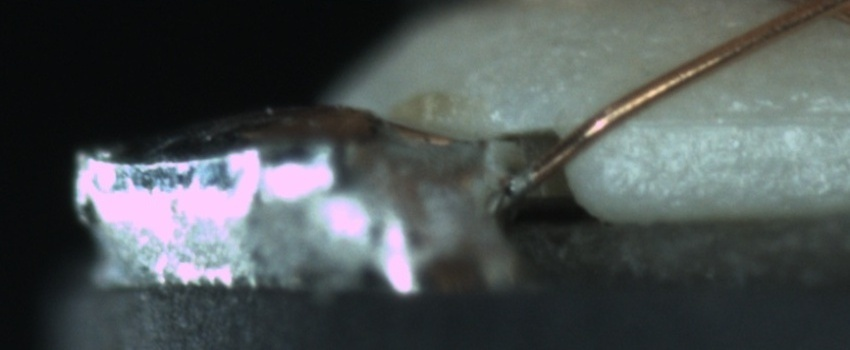CL: (777, 1, 848, 28)
DL: (628, 84, 848, 154)
